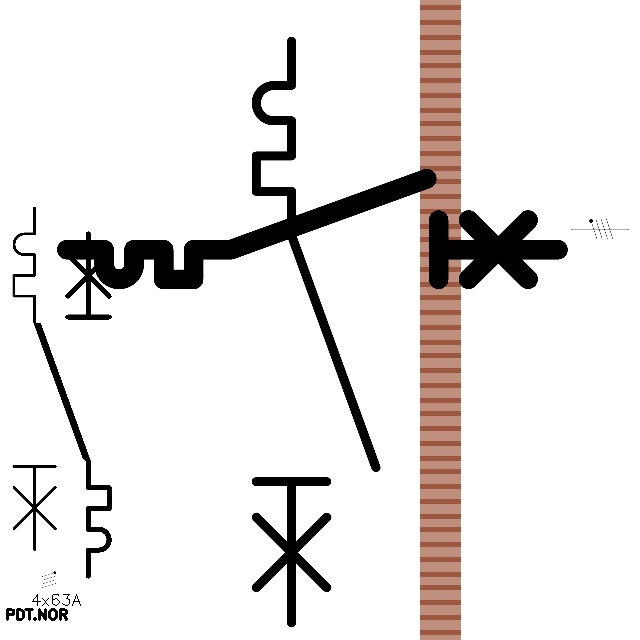interruptor_termomagnetico: (241, 26, 391, 638), (54, 166, 570, 292), (30, 225, 118, 585), (5, 199, 93, 558)
